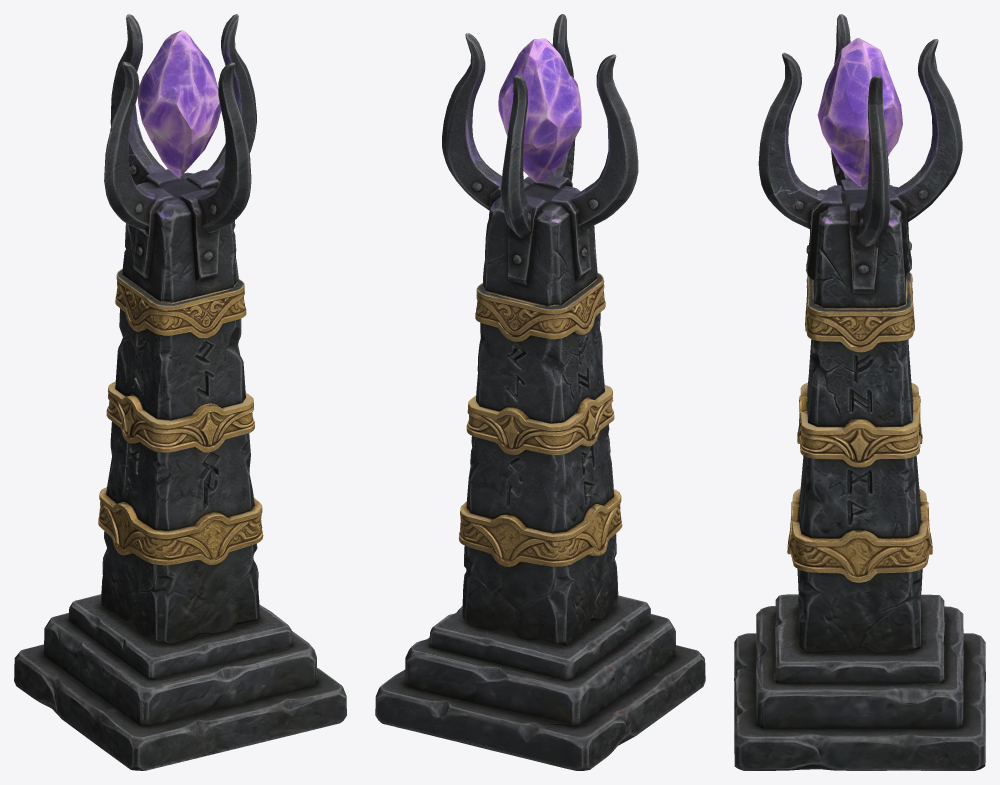
The model's file is pillar.glb.
The picture shows the model from 3 angles, left to right: view 1: azimuth 30°, elevation 25°; view 2: azimuth 150°, elevation 25°; view 3: azimuth 270°, elevation 25°; orthographic projection. The views are drawn at different scales.
Parts seen in each view (by area): view 1: Mesh_0; view 2: Mesh_0; view 3: Mesh_0.
Boxes of the visible parts, left/top/right/bottom form: Mesh_0: left=14, top=14, right=346, bottom=770; Mesh_0: left=375, top=14, right=705, bottom=770; Mesh_0: left=734, top=14, right=985, bottom=770.
Bounding box in the file's own units: 0.639 × 1.9 × 0.6393.
Materials: 1 (1 with a texture image).
